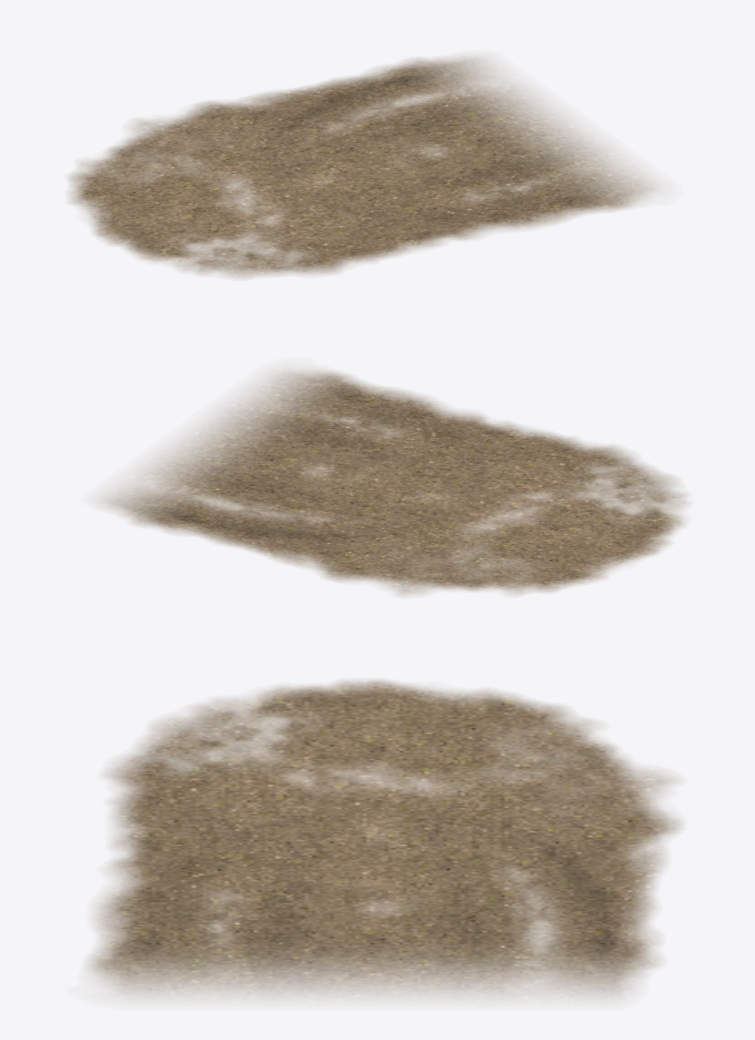
The model's file is road_end_street.glb.
3 views of the same model, one above another, from view 1: azimuth 30°, elevation 25°; view 2: azimuth 150°, elevation 25°; view 3: azimuth 270°, elevation 25° (orthographic). The views are drawn at different scales.
Parts seen in each view (by area): view 1: road_end_street; view 2: road_end_street; view 3: road_end_street.
Part boxes in pixels (x1=…): road_end_street: x1=68, y1=56, x2=658, y2=278; road_end_street: x1=99, y1=369, x2=688, y2=595; road_end_street: x1=87, y1=679, x2=681, y2=998.
Size of the model in its own units: 9.83 by 0 by 8.
1 material, 1 textured.
